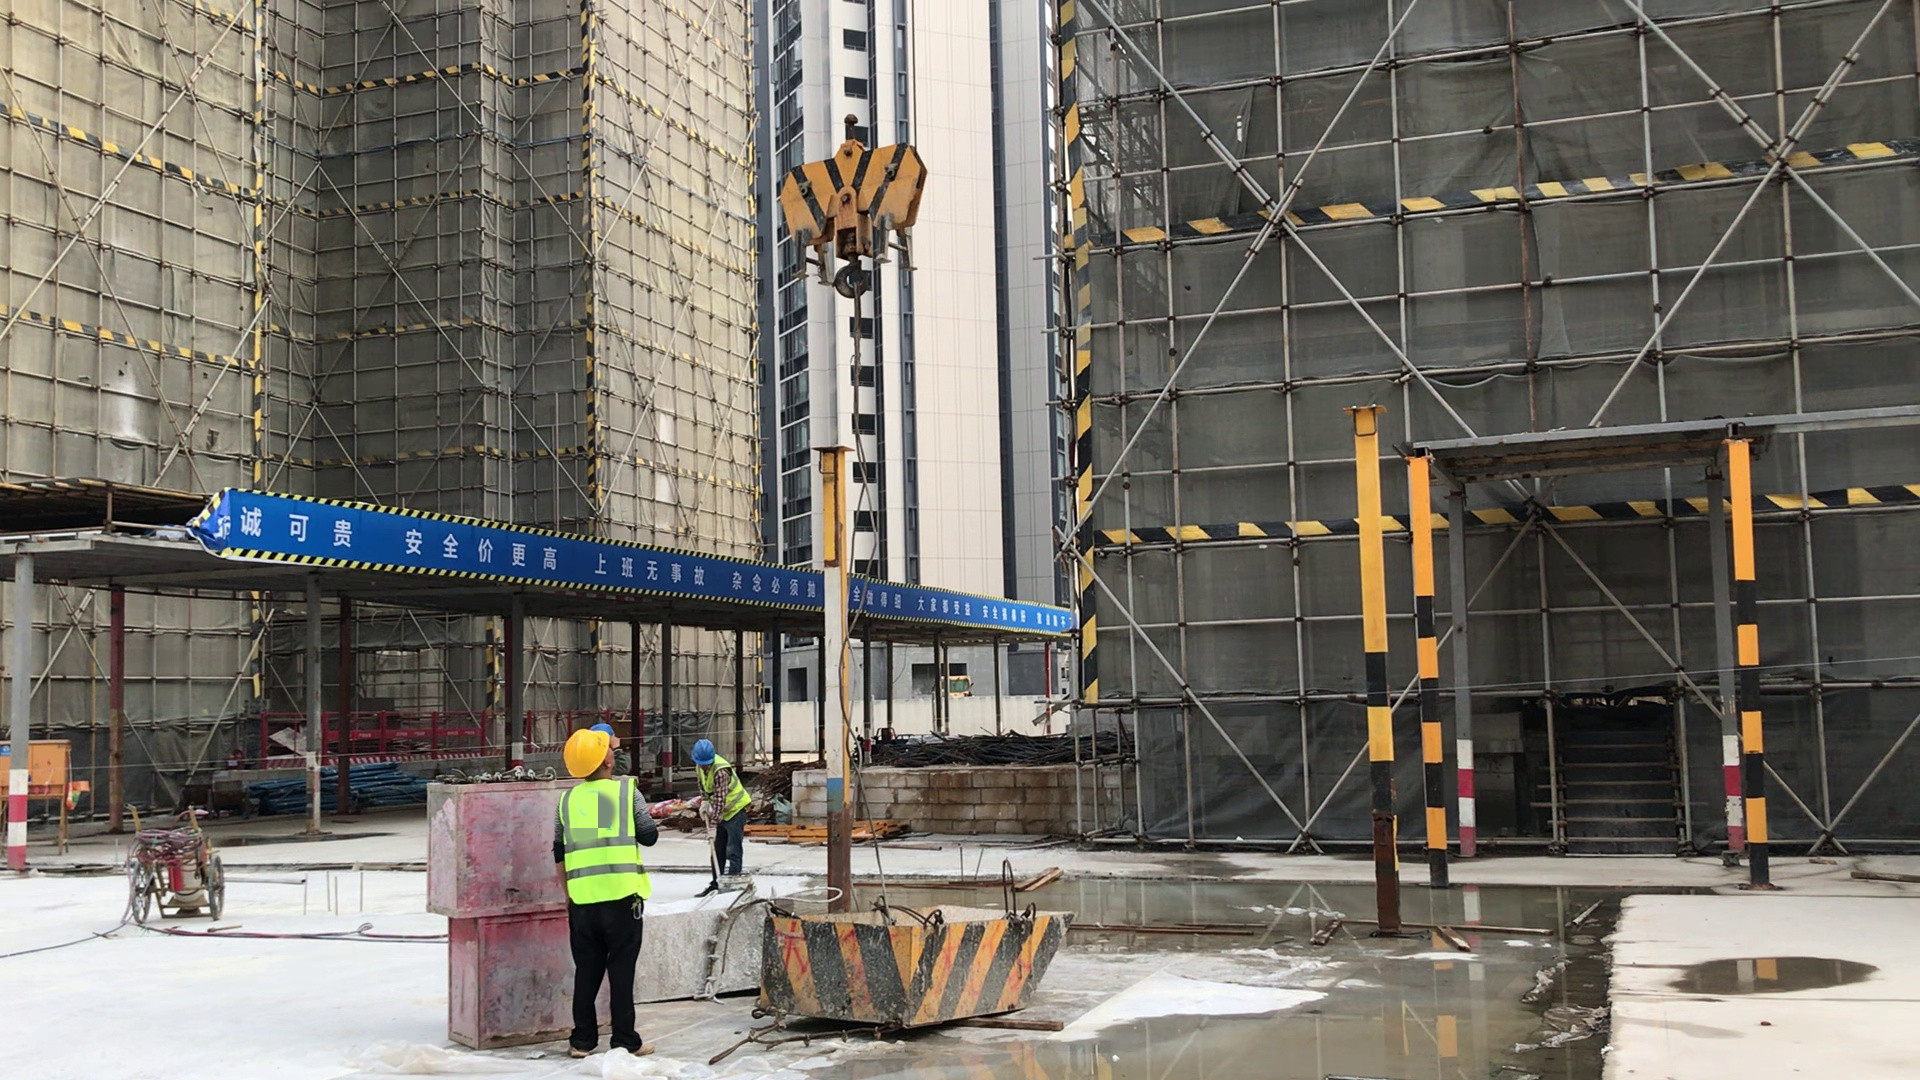ebox: (1, 736, 86, 808)
fence: (215, 704, 604, 793)
handcart: (106, 800, 241, 934)
helmet: (564, 715, 612, 776), (675, 732, 718, 763)
hook: (774, 128, 925, 300)
hopper: (756, 891, 1078, 1048), (638, 895, 769, 1008)
person: (538, 717, 663, 1060), (680, 727, 758, 902)
slogan: (173, 489, 1081, 649)
vest: (560, 786, 649, 906), (689, 758, 749, 830)
